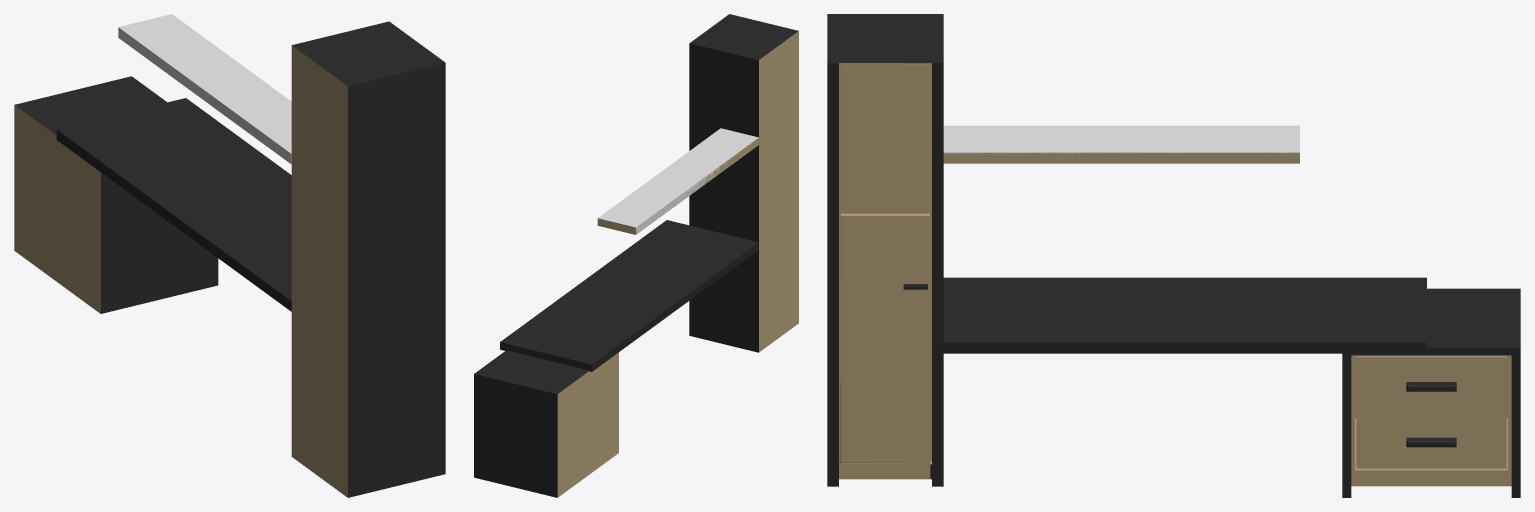
The model's file is desk.glb.
3 views of the same model, side by side, from view 1: azimuth 30°, elevation 25°; view 2: azimuth 150°, elevation 25°; view 3: azimuth 270°, elevation 25° (orthographic). The views are drawn at different scales.
Visible parts, largest first — view 1: desk, plank; view 2: desk, plank; view 3: desk, plank, drawer, drawer.001.
Part boxes in pixels (x1,y1,x2,y2): desk: (14, 21, 445, 497); plank: (118, 14, 291, 164); desk: (474, 14, 798, 497); plank: (598, 128, 758, 234); desk: (827, 14, 1520, 497); plank: (943, 125, 1299, 156); drawer: (1356, 356, 1506, 412); drawer.001: (1356, 413, 1506, 468).
Bounding box in the file's own units: 2.65 × 8.05 × 11.94.
